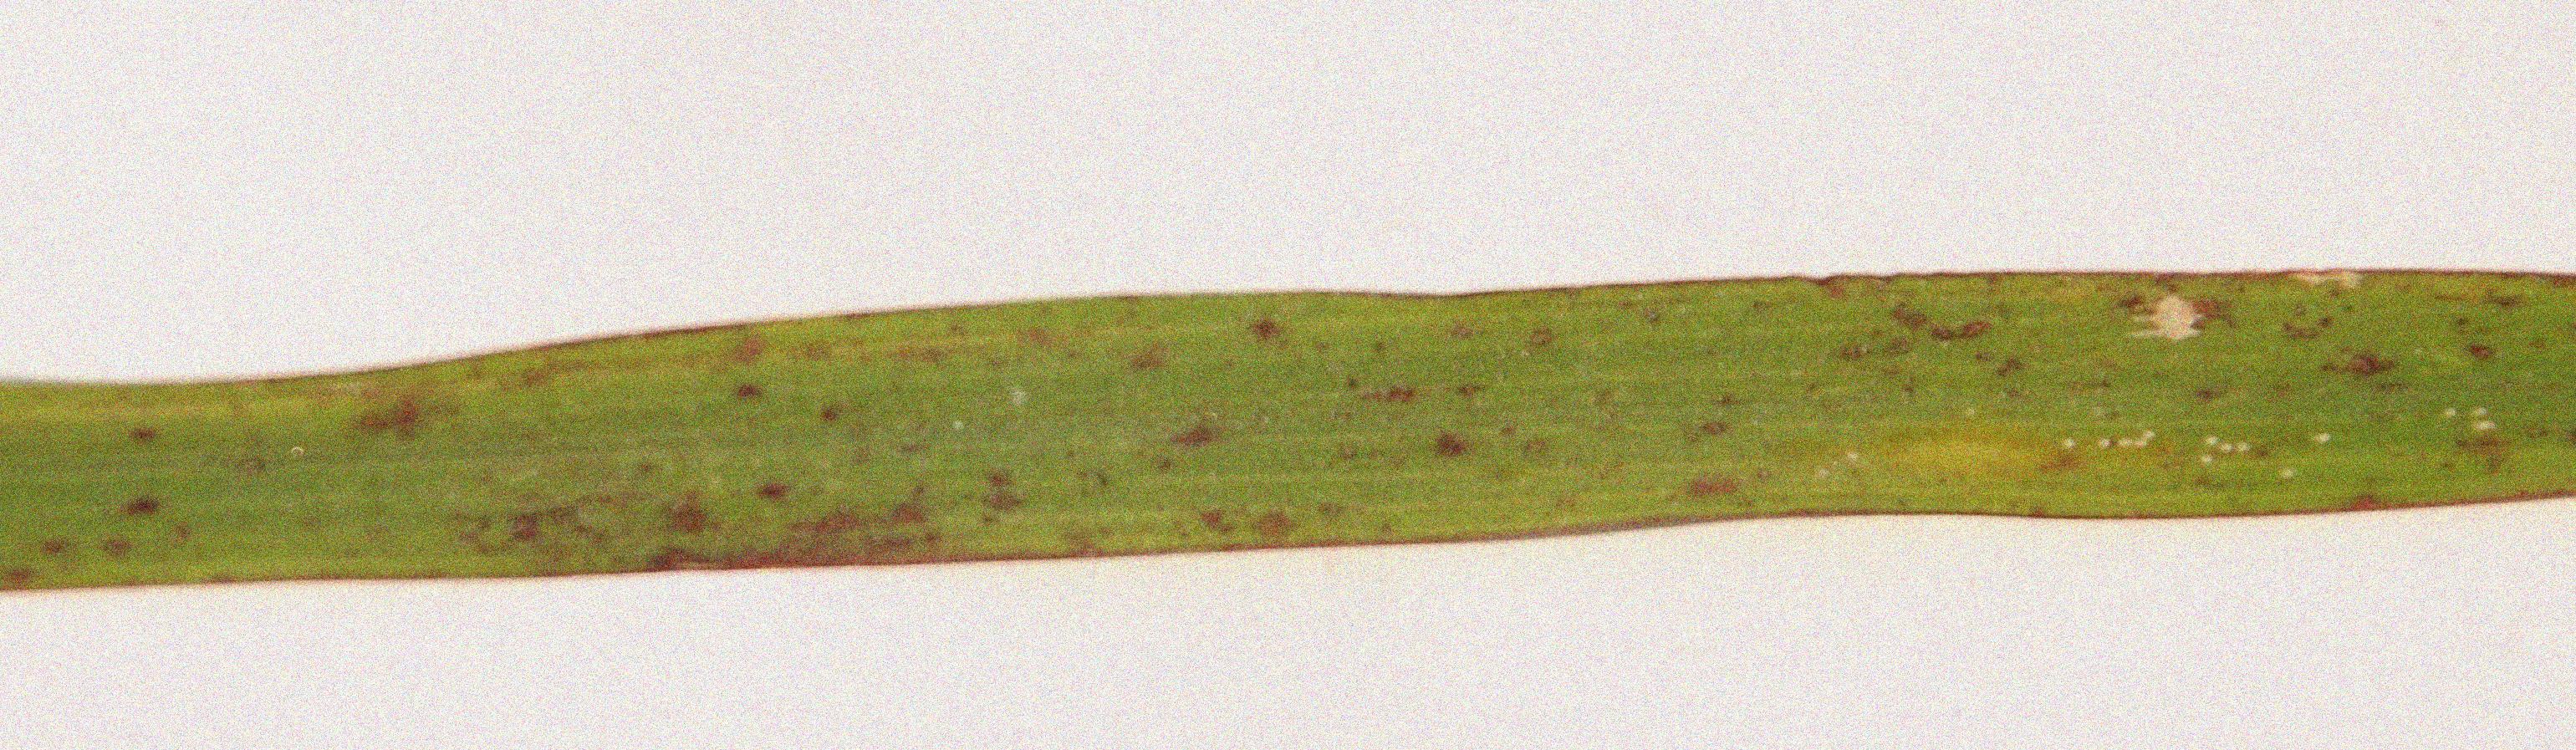leaf_smut: (89, 284, 2543, 545)
